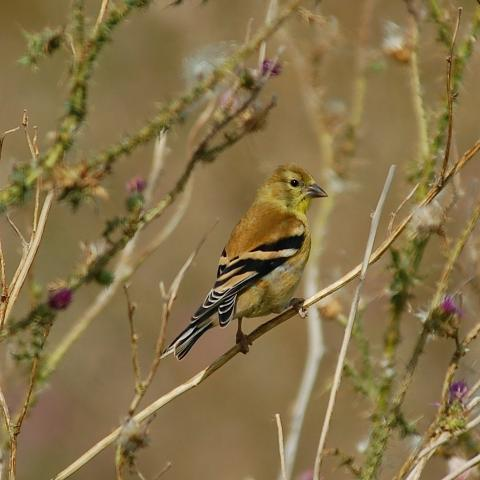bird: (158, 160, 329, 362)
